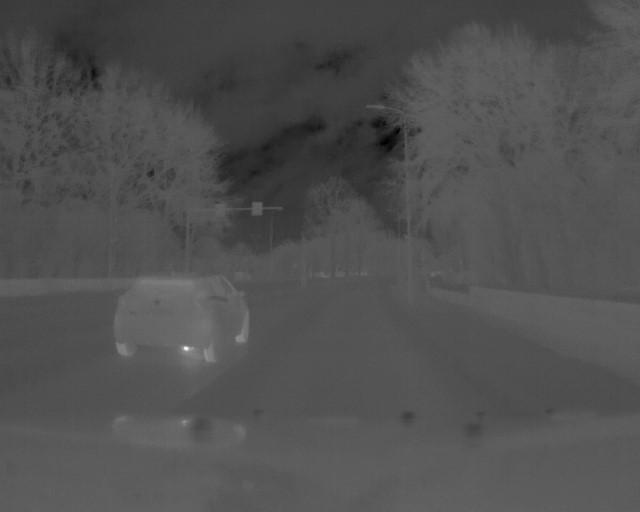car: (111, 273, 253, 364)
